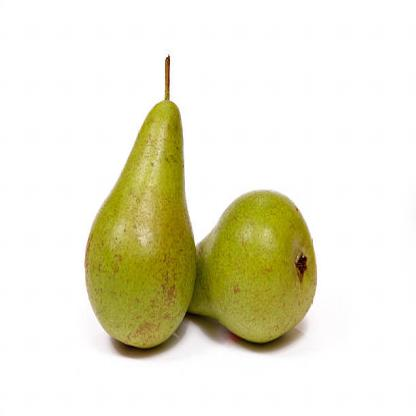Paer: (84, 57, 199, 363), (190, 202, 334, 346)
